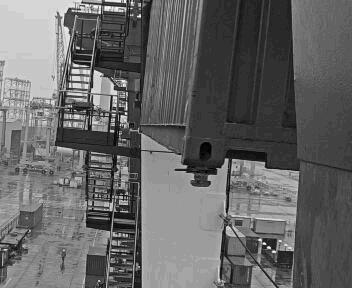twist_lock_1: (166, 155, 207, 194)
